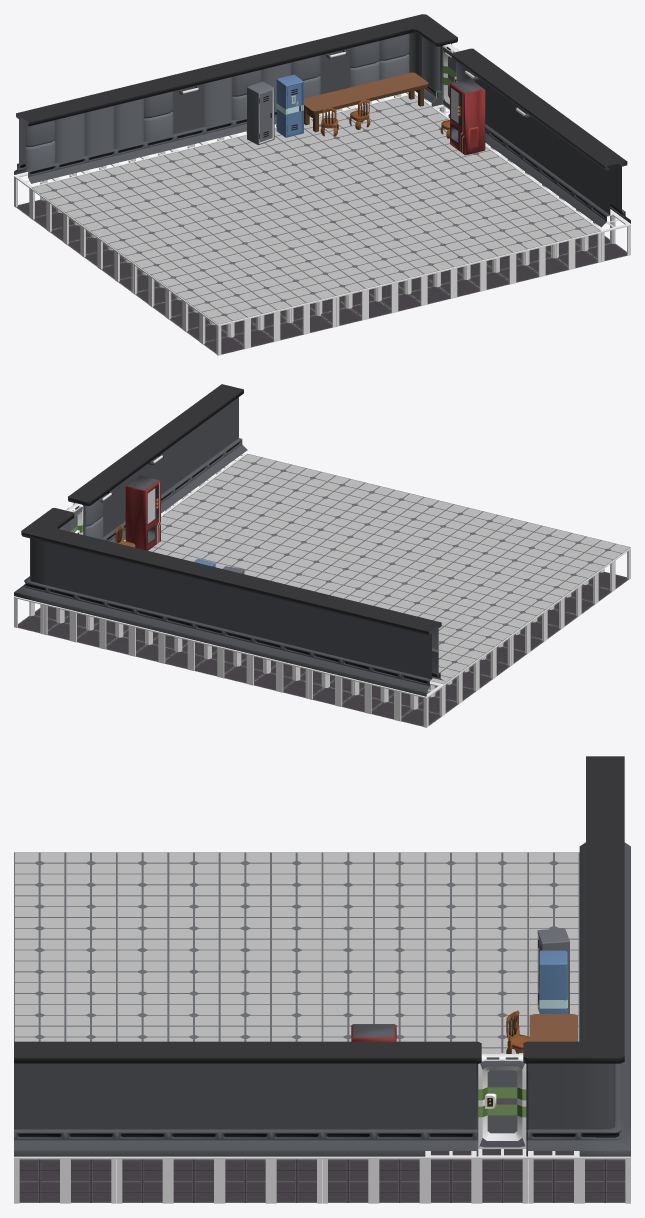
Rendered from Character Customizer Scene.fbx.
3 views of the same model, one above another, from view 1: azimuth 30°, elevation 25°; view 2: azimuth 150°, elevation 25°; view 3: azimuth 270°, elevation 25° (orthographic). The views are drawn at different scales.
Visible parts, largest first — view 1: Plenum.160; view 2: Plenum.160; view 3: Plenum.160.
Boxes of the visible parts, x1,y1,x2,y2 form: Plenum.160: [14, 14, 630, 355]; Plenum.160: [14, 384, 630, 727]; Plenum.160: [14, 756, 630, 1203].
Size of the model in its own units: 14.01 by 3.07 by 12.
